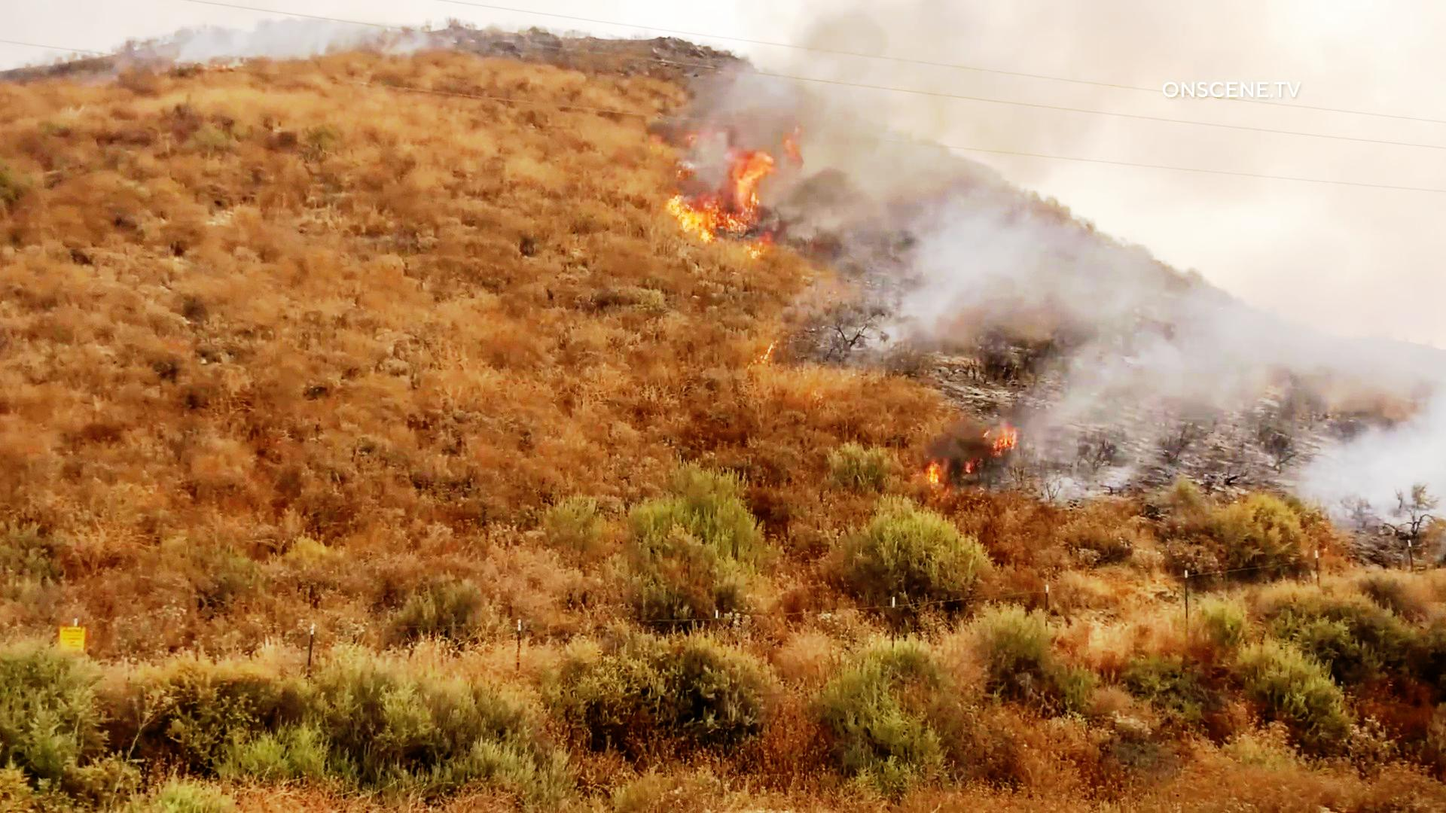fire: (669, 108, 814, 262), (930, 426, 1032, 494)
smoke: (818, 8, 1111, 232)
